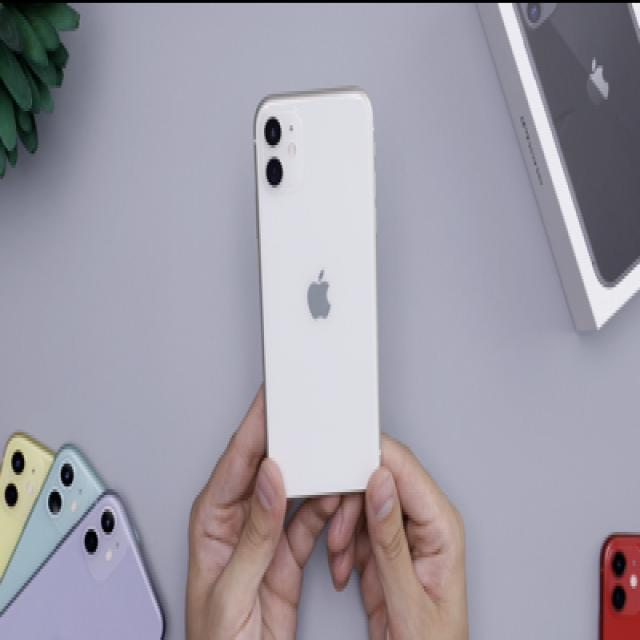cellphone: (251, 85, 381, 498)
